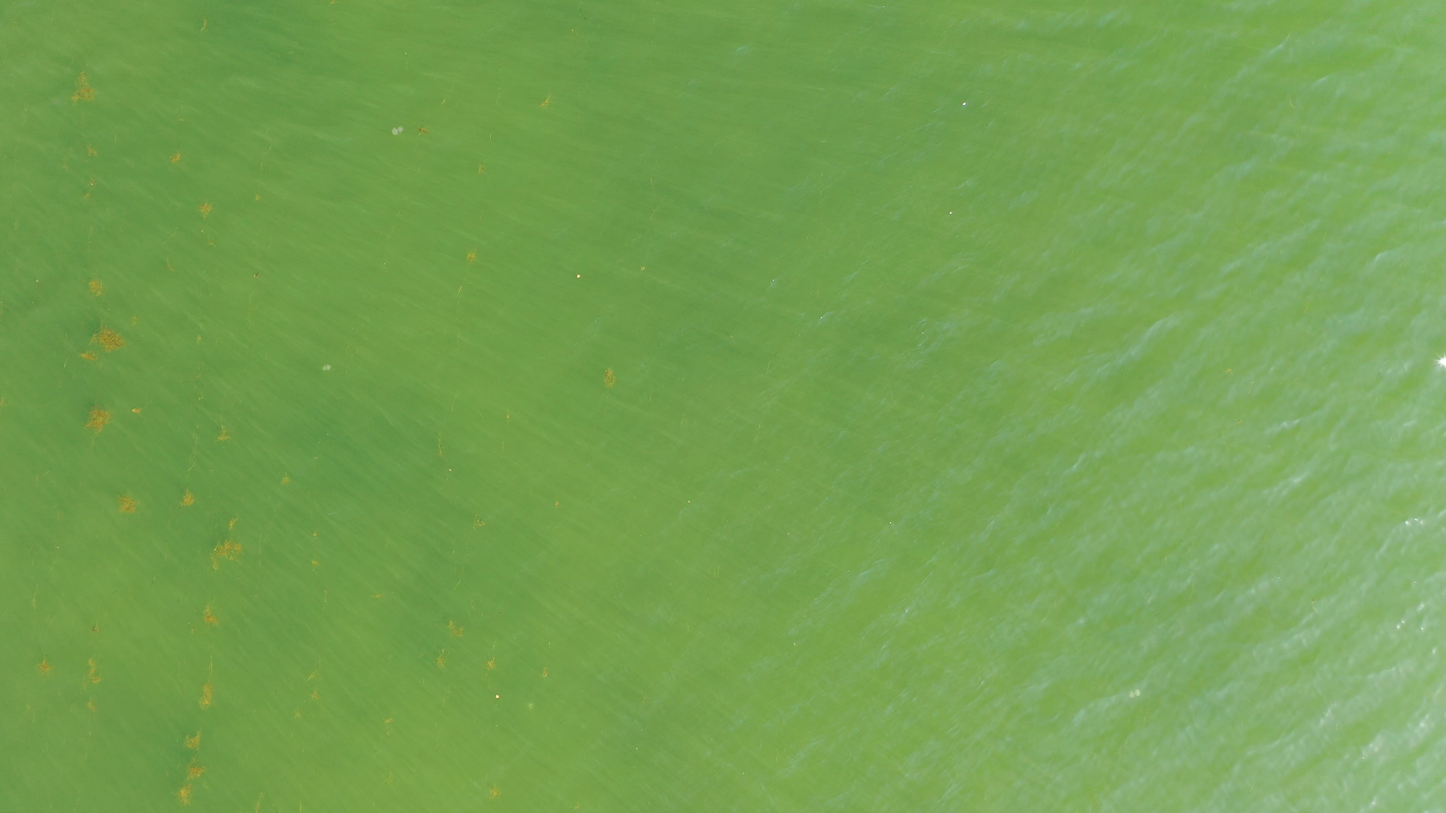meduse: (393, 125, 404, 135), (1130, 690, 1142, 699), (321, 364, 330, 371), (527, 703, 534, 710)
